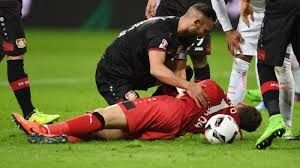falling: (1, 76, 270, 145)
